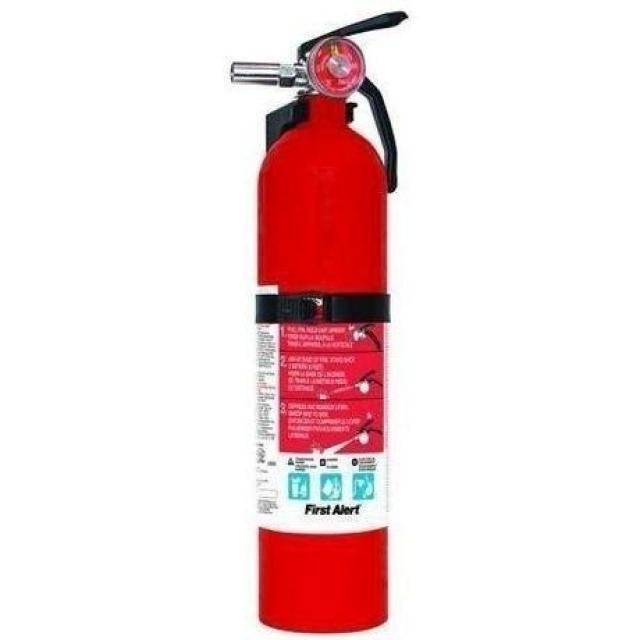fire_extinguisher: (224, 6, 410, 638)
